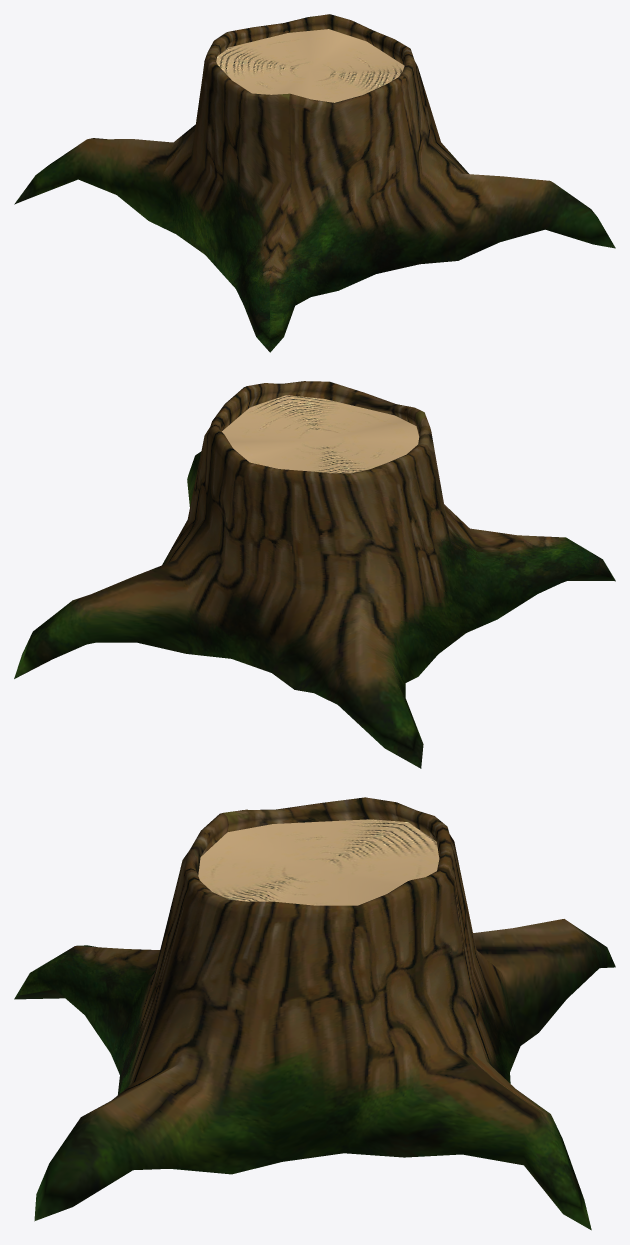
Rendered from TreeStump8Shape.dae.
The picture shows the model from 3 angles, top to bottom: view 1: azimuth 30°, elevation 25°; view 2: azimuth 150°, elevation 25°; view 3: azimuth 270°, elevation 25°; orthographic projection. The views are drawn at different scales.
Parts seen in each view (by area): view 1: TreeStump8; view 2: TreeStump8; view 3: TreeStump8.
Part boxes in pixels (x1,y1,x2,y2): TreeStump8: (14, 14, 615, 352); TreeStump8: (14, 381, 615, 768); TreeStump8: (14, 797, 615, 1230).
Size of the model in its own units: 3.65 by 1.72 by 3.45.
